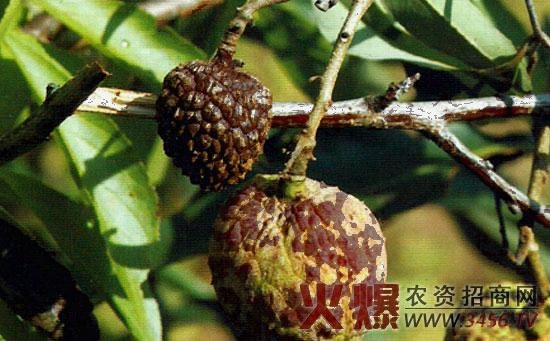Anthracnose: (161, 54, 274, 191), (226, 204, 406, 289)
